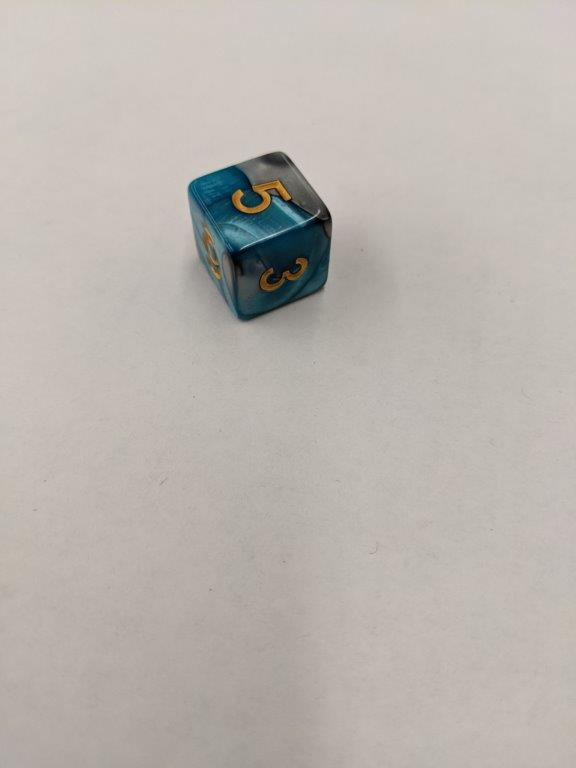d6-5: (188, 149, 333, 322)
